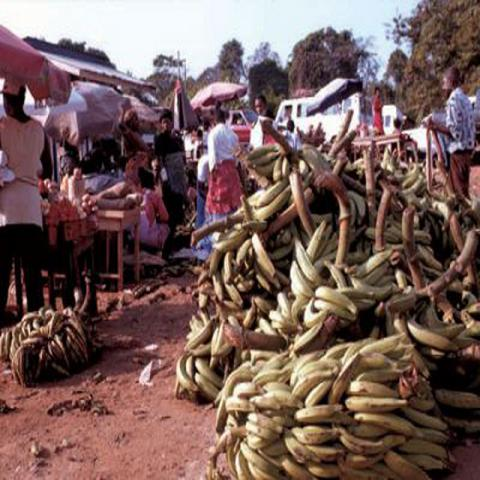car: (400, 114, 438, 162), (227, 110, 255, 144)
truck: (274, 93, 368, 142), (228, 110, 252, 142)
